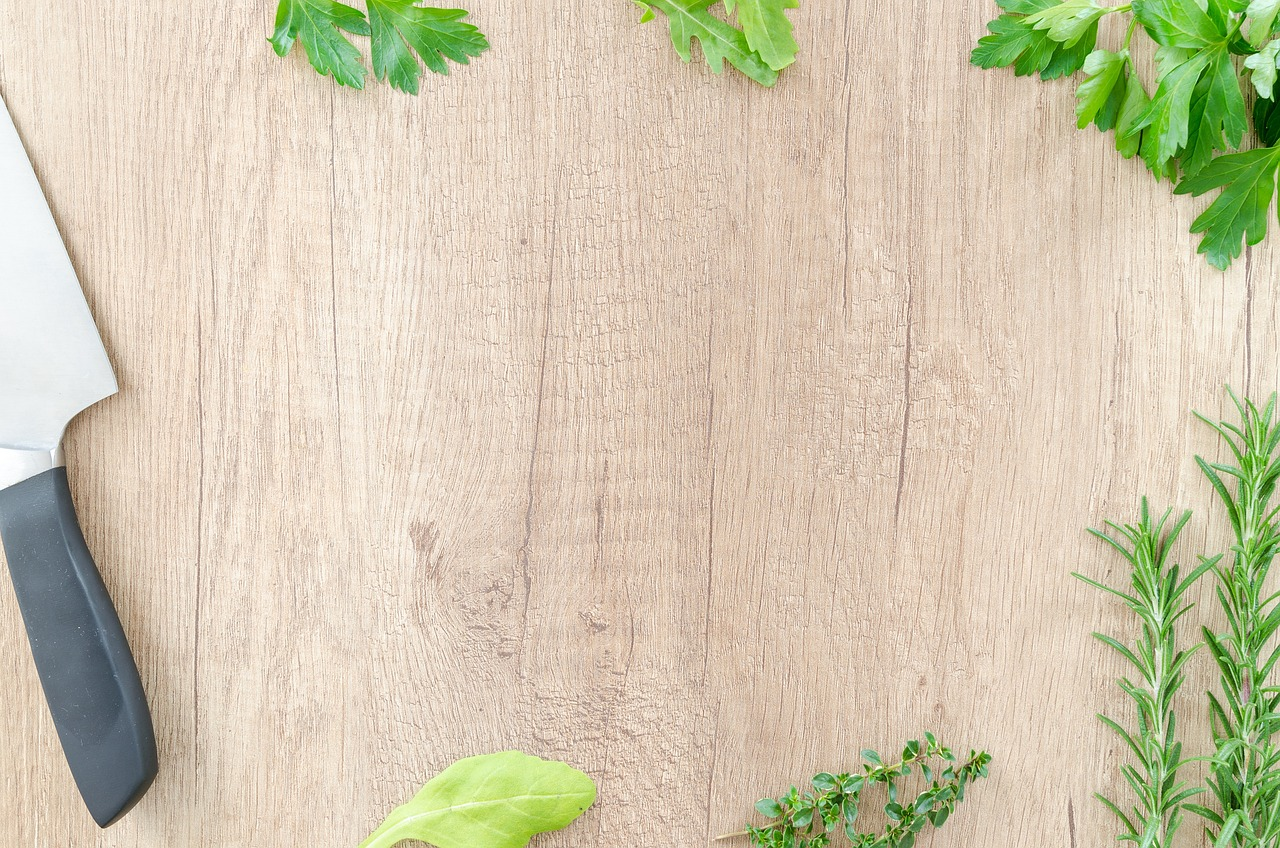knife: (0, 75, 171, 833)
